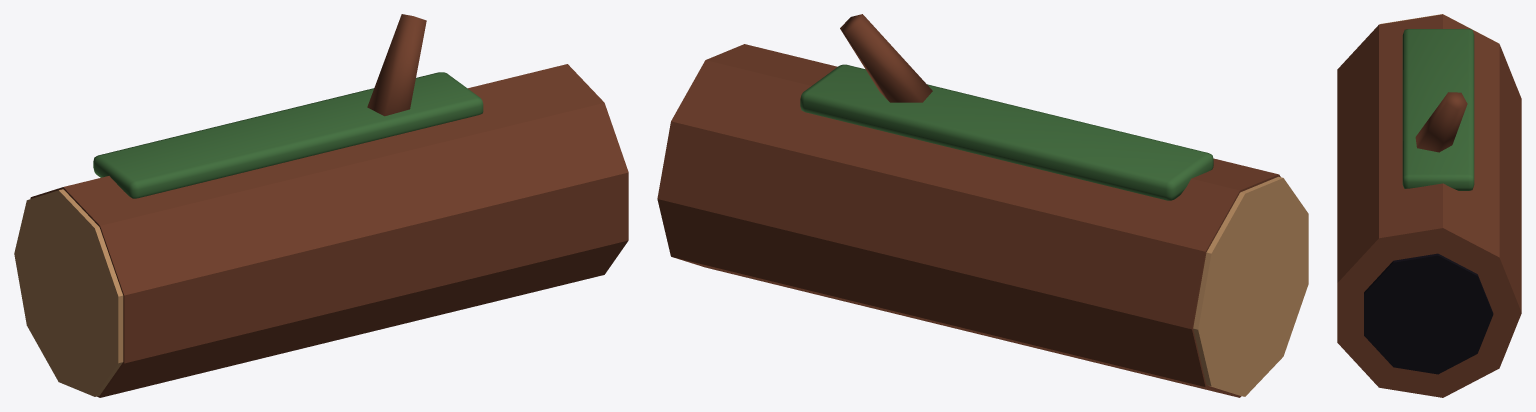
The model's file is log.glb.
The picture shows the model from 3 angles, left to right: view 1: azimuth 30°, elevation 25°; view 2: azimuth 150°, elevation 25°; view 3: azimuth 270°, elevation 25°; orthographic projection. The views are drawn at different scales.
Visible parts, largest first — view 1: log; view 2: log; view 3: log.
Part boxes in pixels (<box>): log: <box>14,14,628,397</box>; log: <box>657,14,1308,397</box>; log: <box>1337,14,1521,397</box>.
Bounding box in the file's own units: 0.866 × 0.4482 × 0.3104.
